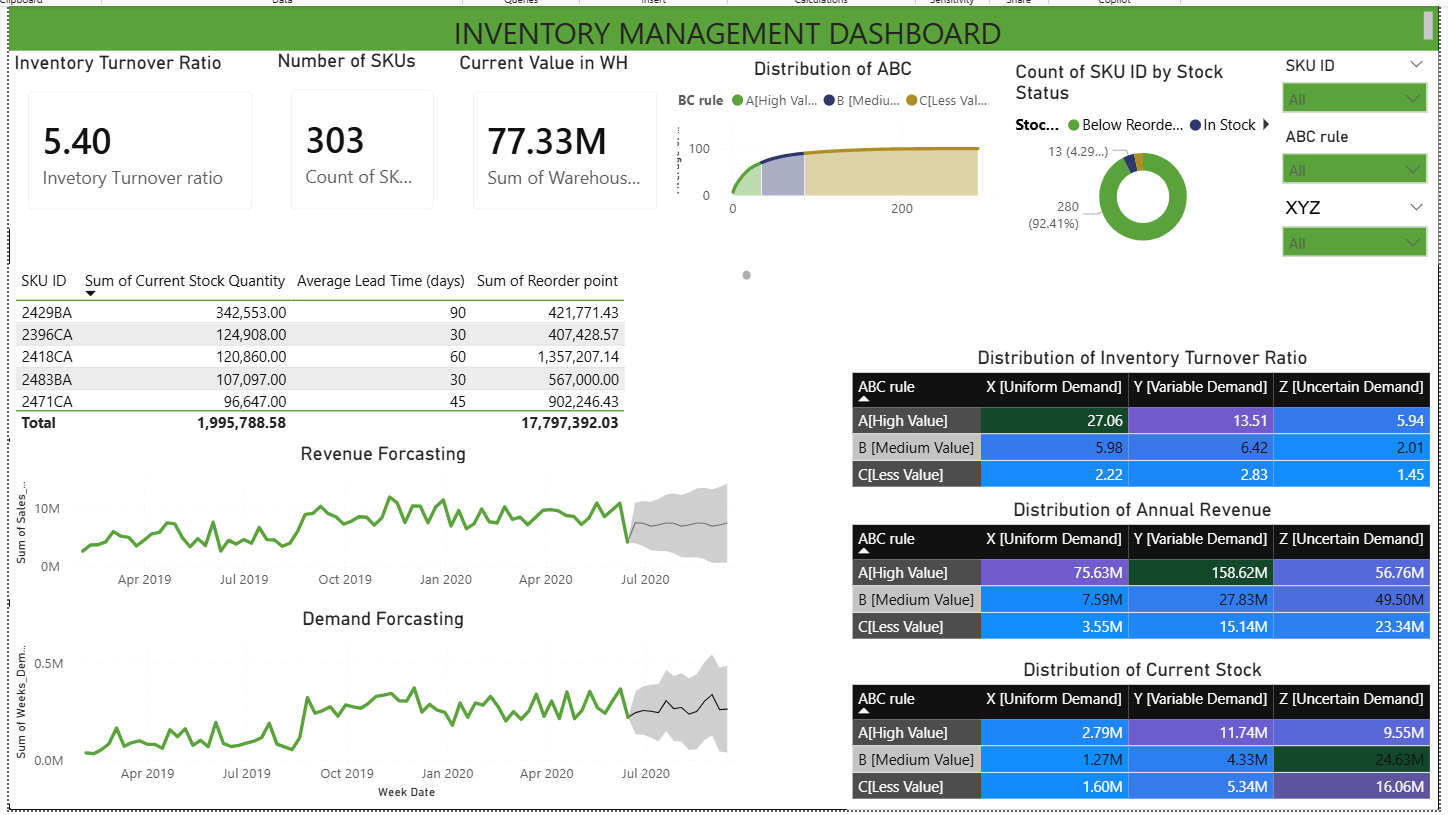

The dashboard page shown, as its layout file describes it:
{"tool":"powerbi","page":{"name":"Page 1","canvas":[1280,720],"ordinal":0},"visuals":[{"type":"stackedAreaChart","title":"Distribution of ABC","fields":{"Category":["Stock.ABC Rank"],"Y":["Avg(Stock.Cummulative share)"],"Series":["Stock.ABC rule"]},"box":[585.7,45.7,304.5,154],"z":0},{"type":"cardVisual","title":"Inventory Turnover Ratio","fields":{"Data":["Stock.Invetory Turnover ratio"]},"box":[0,40.3,235.5,159.4],"z":1000},{"type":"cardVisual","title":"Number of SKUs","fields":{"Data":["Count(Stock.SKU ID)"]},"box":[235.5,38.5,163,161.2],"z":2000},{"type":"cardVisual","title":"Current Value in WH","fields":{"Data":["Sum(Stock.Warehouse Values)"]},"box":[398.5,40.3,199.7,159.4],"z":3000},{"type":"tableEx","fields":{"Values":["Stock.SKU ID","Stock.Current Stock Quantity","Stock.Average Lead Time (days)","Stock.Reorder point"]},"box":[0,231.2,670.2,156.1],"z":4000},{"type":"actionButton","box":[0,0,100,40],"z":5000},{"type":"donutChart","fields":{"Category":["Stock.Stock Status"],"Y":["CountNonNull(Stock.SKU ID)"]},"box":[896.4,48.4,238.2,178.2],"z":6000},{"type":"textbox","box":[0,0,1279.7,40.3],"z":7000},{"type":"lineChart","title":"Revenue Forcasting","fields":{"Category":["Weekly Demand Sheet.Week Date"],"Y":["Sum(Weekly Demand Sheet.Sales Amount)"]},"box":[0,390.7,670.2,141.5],"z":8000},{"type":"lineChart","title":" Demand Forcasting","fields":{"Y":["Sum(Weekly Demand Sheet.Weeks Demand)"],"Category":["Weekly Demand Sheet.Week Date"]},"box":[0,538.2,670.2,176],"z":9000},{"type":"pivotTable","title":"Distribution of Annual Revenue","fields":{"Rows":["Stock.ABC rule"],"Columns":["Stock.XYZ"],"Values":["Sum(Stock.Annual Revenue)"]},"box":[750.4,440.6,529.3,136.1],"z":10000},{"type":"pivotTable","title":"Distribution of Current Stock","fields":{"Rows":["Stock.ABC rule"],"Columns":["Stock.XYZ"],"Values":["Sum(Stock.Warehouse Values)"]},"box":[750.4,583.9,529.3,136.1],"z":11000},{"type":"pivotTable","title":"Distribution of Inventory Turnover Ratio","fields":{"Rows":["Stock.ABC rule"],"Columns":["Stock.XYZ"],"Values":["Stock.Invetory Turnover ratio"]},"box":[750.4,304.5,529.3,136.1],"z":12000},{"type":"slicer","fields":{"Values":["Stock.SKU ID"]},"box":[1130.1,40.3,149.6,63.6],"z":13000},{"type":"slicer","fields":{"Values":["Stock.ABC rule"]},"box":[1130.1,103.9,149.6,63.6],"z":14000},{"type":"slicer","fields":{"Values":["Stock.XYZ"]},"box":[1130.1,167.5,149.6,63.6],"z":15000}]}

Visuals, with their boxes on the page's 1280x720 design canvas (x1, y1, x2, y2). These are canvas units, not pixel positions in the 1448x815 screenshot, which may show the page scaled, cropped or inside an application window:
"Distribution of ABC" stackedAreaChart: <bbox>586, 46, 890, 200</bbox>
"Inventory Turnover Ratio" cardVisual: <bbox>0, 40, 236, 200</bbox>
"Number of SKUs" cardVisual: <bbox>236, 38, 398, 200</bbox>
"Current Value in WH" cardVisual: <bbox>398, 40, 598, 200</bbox>
tableEx - Stock.SKU ID x Stock.Current Stock Quantity: <bbox>0, 231, 670, 387</bbox>
actionButton: <bbox>0, 0, 100, 40</bbox>
donutChart - Stock.Stock Status x CountNonNull(Stock.SKU ID): <bbox>896, 48, 1135, 227</bbox>
textbox: <bbox>0, 0, 1280, 40</bbox>
"Revenue Forcasting" lineChart: <bbox>0, 391, 670, 532</bbox>
" Demand Forcasting" lineChart: <bbox>0, 538, 670, 714</bbox>
"Distribution of Annual Revenue" pivotTable: <bbox>750, 441, 1280, 577</bbox>
"Distribution of Current Stock" pivotTable: <bbox>750, 584, 1280, 720</bbox>
"Distribution of Inventory Turnover Ratio" pivotTable: <bbox>750, 304, 1280, 441</bbox>
slicer - Stock.SKU ID: <bbox>1130, 40, 1280, 104</bbox>
slicer - Stock.ABC rule: <bbox>1130, 104, 1280, 168</bbox>
slicer - Stock.XYZ: <bbox>1130, 168, 1280, 231</bbox>
